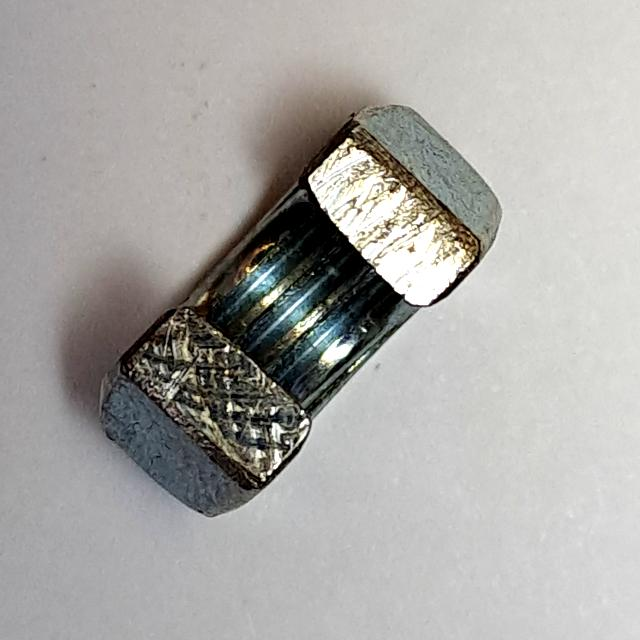Side-Fracture: (87, 92, 513, 535)
